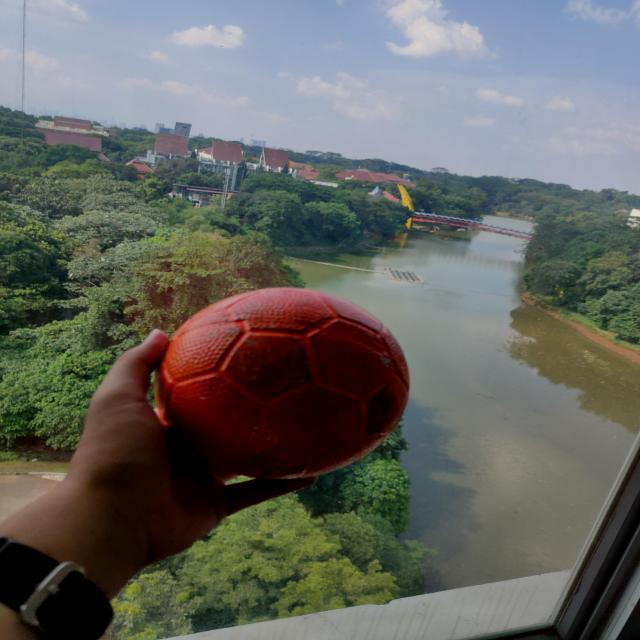bola: (162, 287, 414, 483)
